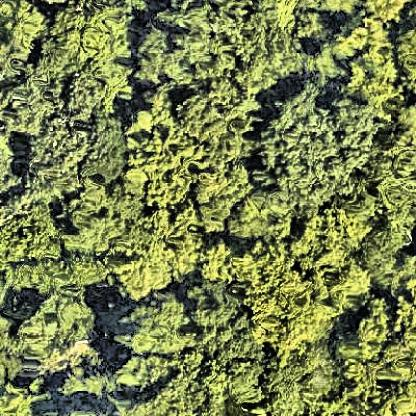tree-top: (238, 222, 364, 349), (132, 1, 294, 94), (263, 86, 375, 210), (1, 100, 82, 197), (18, 290, 106, 377), (54, 7, 130, 107), (114, 211, 195, 299), (333, 13, 408, 105), (341, 300, 416, 387), (129, 112, 191, 207), (120, 290, 198, 360), (185, 94, 257, 159), (189, 156, 245, 239), (1, 201, 66, 265), (1, 1, 45, 81), (85, 115, 125, 191), (1, 382, 41, 416)
